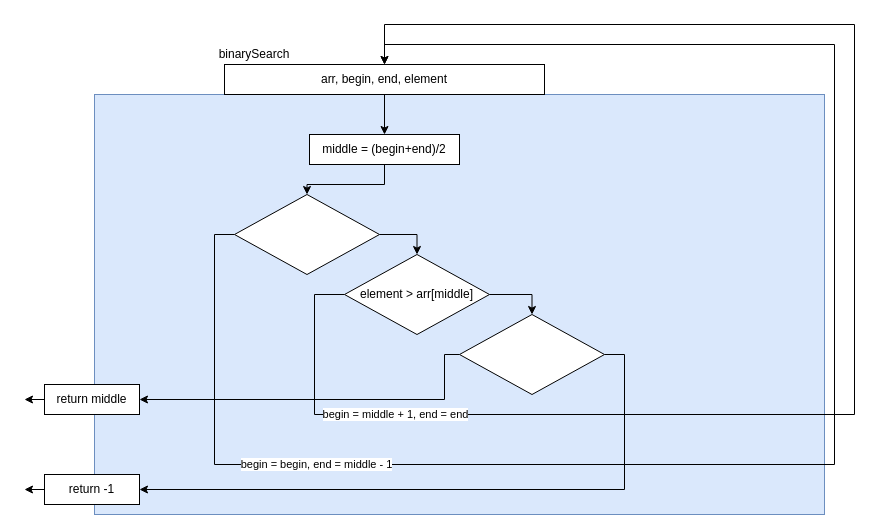
Some shapes in this 880 by 532 pixel diagram are drawn without their labels. Here are the shapes that lost their labels. From the top down, the box of each, then its label:
(234, 194, 380, 274): element < arr[middle]
(458, 314, 604, 394): element == arr[middle]
